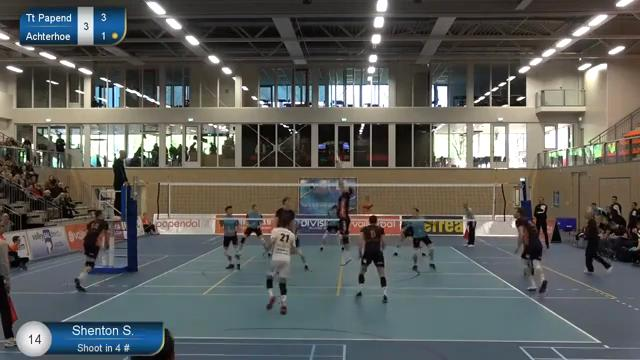alzata: (322, 172, 355, 271)
